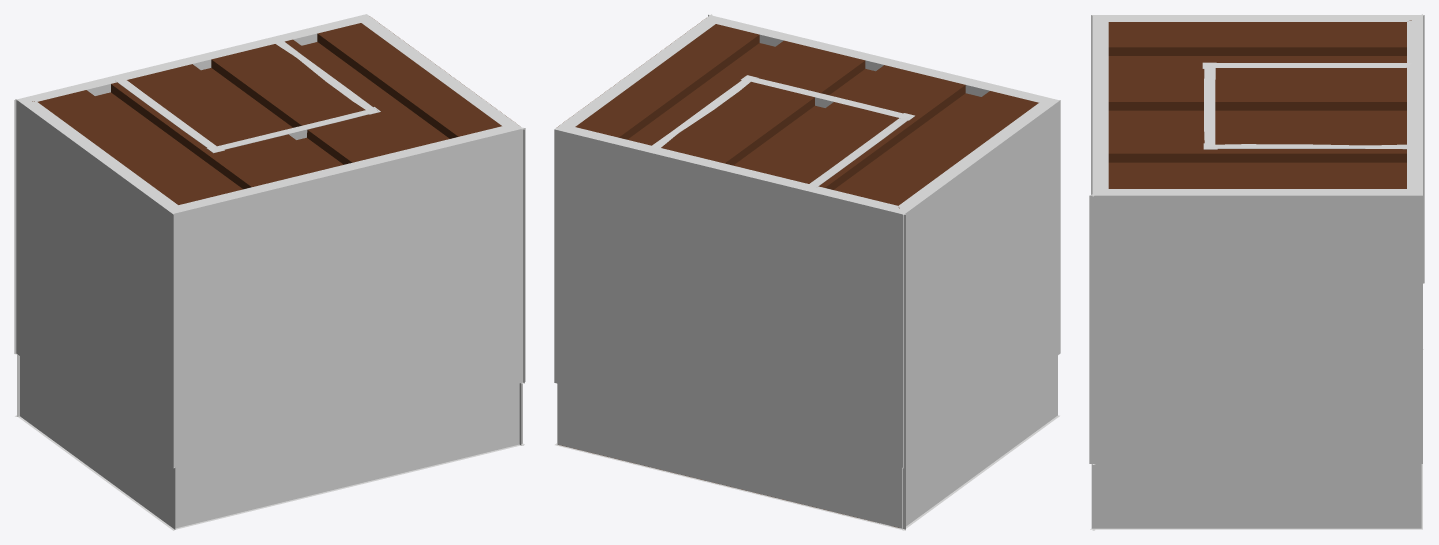
File: Couloir.glb
The picture shows the model from 3 angles, left to right: view 1: azimuth 30°, elevation 25°; view 2: azimuth 150°, elevation 25°; view 3: azimuth 270°, elevation 25°; orthographic projection. The views are drawn at different scales.
Visible parts, largest first — view 1: S_MurCouloirBase.3, S_MurCouloirBase.1, S_Plafond, S_MurCouloirBase.2, S_MurCouloirBase.4, S_LowHall.004, S_LowHall.005, S_LowHall.003; view 2: S_MurCouloirBase.2, S_MurCouloirBase.1, S_Plafond, S_MurCouloirBase.3, S_MurCouloirBase.4, S_LowHall.004, S_LowHall.005, S_LowHall.003; view 3: S_MurCouloirBase.4, S_Plafond, S_MurCouloirBase.1, S_MurCouloirBase.3, S_MurCouloirBase.2, S_LowHall.005, S_LowHall.004, S_LowHall.003.
Part boxes in pixels (bbox=[...]): S_MurCouloirBase.3: bbox=[173, 126, 525, 529]; S_MurCouloirBase.1: bbox=[15, 99, 178, 530]; S_Plafond: bbox=[32, 19, 515, 204]; S_MurCouloirBase.2: bbox=[14, 14, 366, 416]; S_MurCouloirBase.4: bbox=[361, 14, 524, 445]; S_LowHall.004: bbox=[214, 109, 377, 151]; S_LowHall.005: bbox=[115, 80, 216, 151]; S_LowHall.003: bbox=[275, 40, 377, 110]; S_MurCouloirBase.2: bbox=[554, 127, 905, 530]; S_MurCouloirBase.1: bbox=[898, 100, 1060, 530]; S_Plafond: bbox=[558, 20, 1038, 208]; S_MurCouloirBase.3: bbox=[708, 14, 1058, 102]; S_MurCouloirBase.4: bbox=[555, 14, 715, 445]; S_LowHall.004: bbox=[748, 76, 912, 118]; S_LowHall.005: bbox=[809, 116, 912, 187]; S_LowHall.003: bbox=[650, 76, 750, 148]; S_MurCouloirBase.4: bbox=[1089, 189, 1422, 529]; S_Plafond: bbox=[1108, 20, 1411, 188]; S_MurCouloirBase.1: bbox=[1091, 15, 1424, 349]; S_MurCouloirBase.3: bbox=[1092, 16, 1108, 530]; S_MurCouloirBase.2: bbox=[1407, 14, 1422, 529]; S_LowHall.005: bbox=[1205, 63, 1411, 67]; S_LowHall.004: bbox=[1204, 63, 1215, 148]; S_LowHall.003: bbox=[1206, 144, 1410, 149].
Size of the model in its own units: 4.28 by 3.66 by 3.32.
